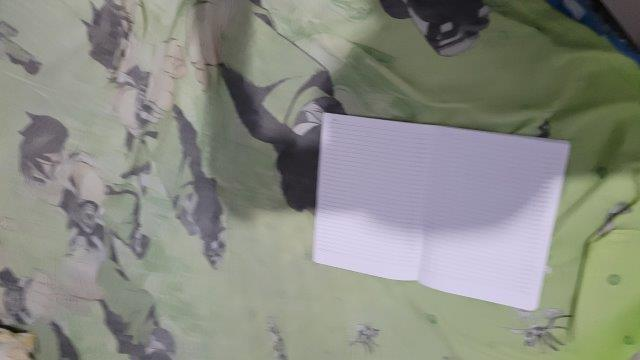kertas: (312, 113, 572, 312)
